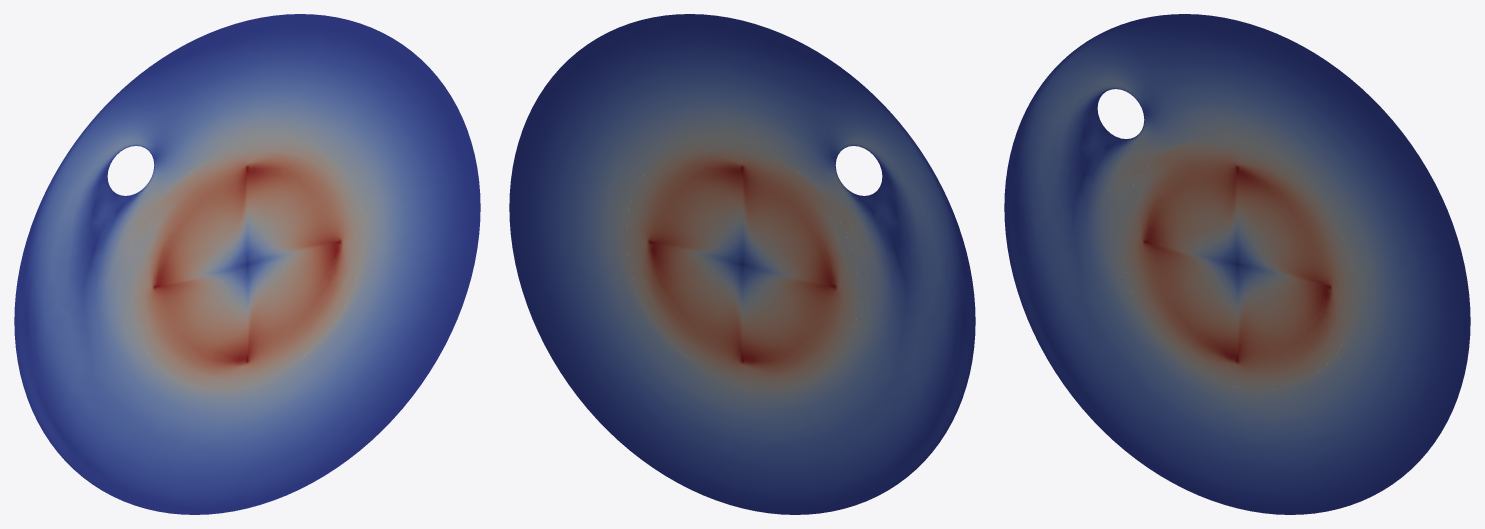
The model's file is Shape_IndexedFaceSetvelo_contour.py_timestep1_time0.0_.fbx.
The picture shows the model from 3 angles, left to right: view 1: azimuth 30°, elevation 25°; view 2: azimuth 150°, elevation 25°; view 3: azimuth 330°, elevation 25°; orthographic projection.
Parts seen in each view (by area): view 1: Shape_IndexedFaceSet; view 2: Shape_IndexedFaceSet; view 3: Shape_IndexedFaceSet.
Part boxes in pixels (box(x1,y1,x2,y2)): Shape_IndexedFaceSet: box(14, 14, 480, 514); Shape_IndexedFaceSet: box(509, 14, 975, 514); Shape_IndexedFaceSet: box(1004, 14, 1470, 514).
Size of the model in its own units: 20 by 20 by 4.44e-06.
